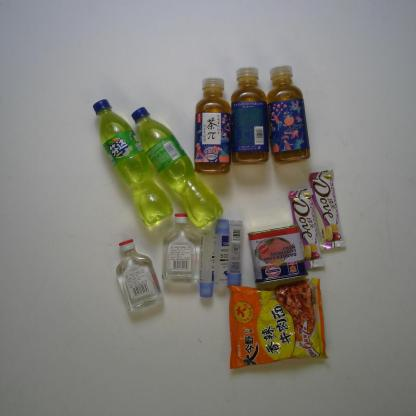Alcohol: (114, 237, 164, 312), (161, 212, 200, 282)
Canned Food: (246, 224, 310, 284)
Chocolate: (307, 168, 347, 252), (287, 187, 325, 270)
Drink: (130, 106, 224, 230), (91, 98, 174, 227), (266, 64, 312, 165), (192, 76, 233, 176), (230, 65, 270, 167)
Instant Noodles: (224, 277, 330, 370)
Stationery: (226, 219, 245, 288), (198, 230, 216, 298), (214, 218, 230, 288)
